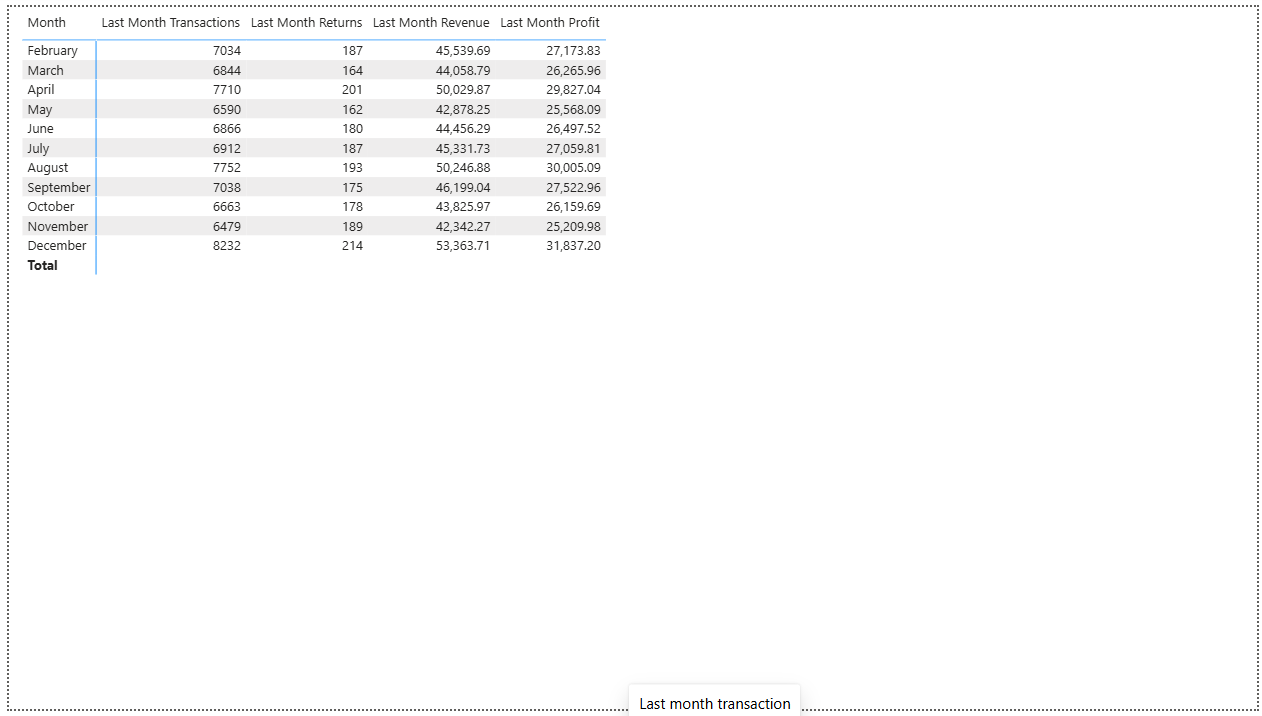

What the dashboard file says about the page in this screenshot:
{"tool":"powerbi","page":{"name":"Last month transaction","canvas":[1280,720],"ordinal":3},"visuals":[{"type":"pivotTable","fields":{"Rows":["MavenMarket_Calendar.Start of Month.Variation.Date Hierarchy.Month"],"Values":["MavenMarket Transactions.Last Month Transactions","MavenMarket Transactions.Last Month Returns","MavenMarket Transactions.Last Month Revenue","MavenMarket Transactions.Last Month Profit"]},"box":[9.3,0,687.3,480.3],"z":0}]}

Visuals, with their boxes in screenshot pixels (x1, y1, x2, y2), scaled from the page's 1280x720 canvas onto the 1262x716 screenshot:
pivotTable - MavenMarket_Calendar.Start of Month.Variation.Date Hierarchy.Month x MavenMarket Transactions.Last Month Transactions: 9,0,687,478
